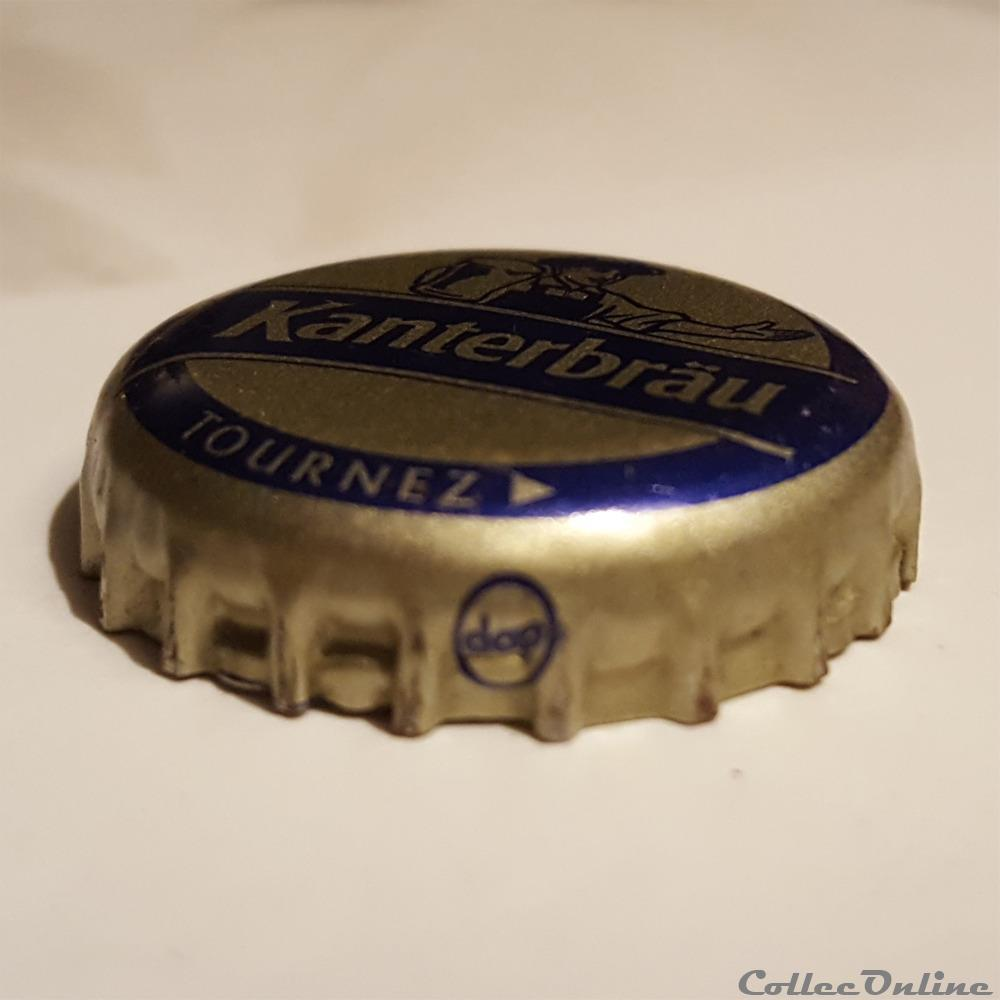metal: (79, 250, 922, 742)
